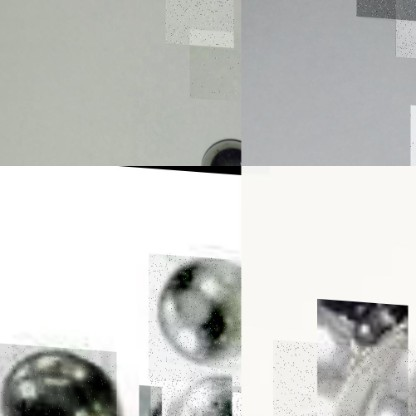ironball: (148, 249, 241, 383), (0, 341, 116, 415), (342, 323, 414, 414), (150, 371, 241, 415), (316, 301, 349, 396), (351, 304, 400, 345), (201, 131, 242, 167)
